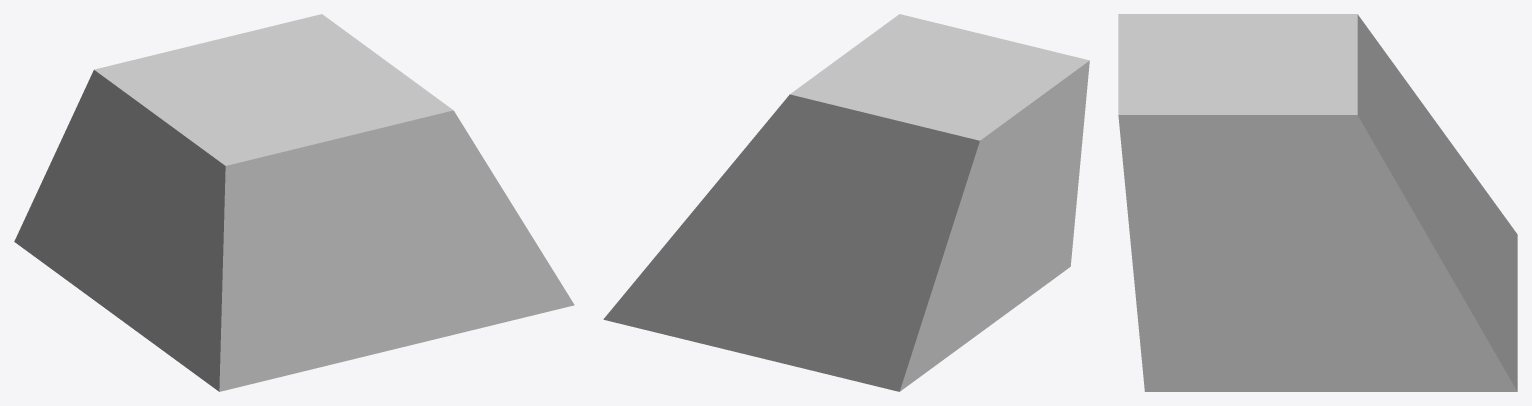
File: ST_FX_Lightbeam_01.fbx
The picture shows the model from 3 angles, left to right: view 1: azimuth 30°, elevation 25°; view 2: azimuth 150°, elevation 25°; view 3: azimuth 270°, elevation 25°; orthographic projection. The views are drawn at different scales.
Parts seen in each view (by area): view 1: ST_FX_Lightbeam_01; view 2: ST_FX_Lightbeam_01; view 3: ST_FX_Lightbeam_01.
Part boxes in pixels (x1,y1,x2,y2): ST_FX_Lightbeam_01: (14,14,574,391); ST_FX_Lightbeam_01: (603,14,1089,391); ST_FX_Lightbeam_01: (1118,14,1517,391).
Size of the model in its own units: 1.59 by 1 by 1.67.
